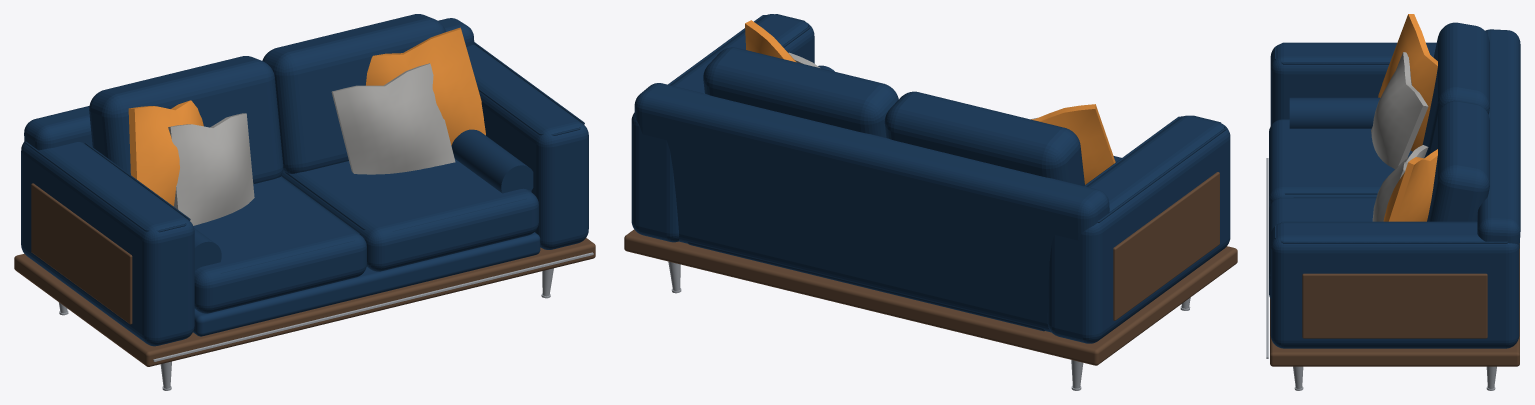
Rendered from milano-coast-2.glb.
3 views of the same model, side by side, from view 1: azimuth 30°, elevation 25°; view 2: azimuth 150°, elevation 25°; view 3: azimuth 270°, elevation 25° (orthographic). The views are drawn at different scales.
Size of the model in its own units: 1.7 by 0.8344 by 0.8932.
